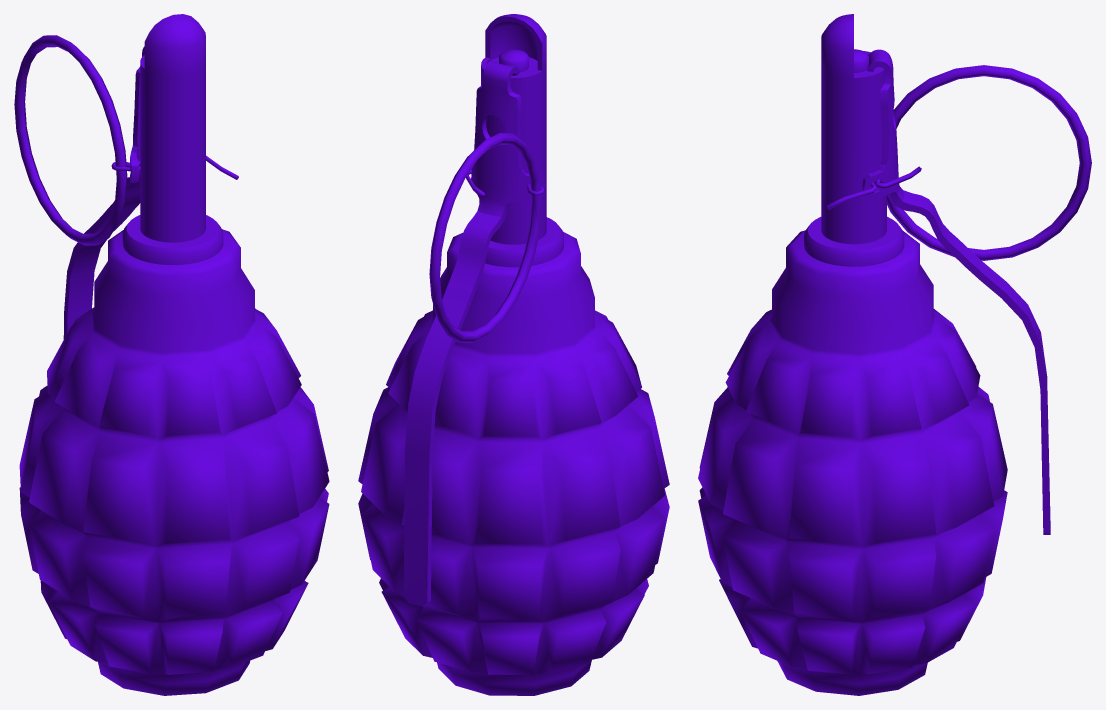
The picture shows the model from 3 angles, left to right: view 1: azimuth 30°, elevation 25°; view 2: azimuth 150°, elevation 25°; view 3: azimuth 270°, elevation 25°; orthographic projection.
Parts seen in each view (by area): view 1: Grande_Low, Fitil_Low, Cheka_Low, Ruka_Low; view 2: Grande_Low, Ruka_Low, Fitil_Low, Cheka_Low; view 3: Grande_Low, Fitil_Low, Ruka_Low, Cheka_Low, Homyd_Low.
Part boxes in pixels (box(x1,y1,x2,y2)): Grande_Low: box(19, 229, 329, 695); Fitil_Low: box(122, 14, 223, 264); Cheka_Low: box(14, 35, 127, 245); Ruka_Low: box(63, 46, 144, 339); Grande_Low: box(358, 231, 669, 695); Ruka_Low: box(403, 61, 544, 606); Fitil_Low: box(481, 14, 563, 267); Cheka_Low: box(429, 132, 542, 342); Grande_Low: box(698, 230, 1007, 695); Fitil_Low: box(804, 14, 904, 266); Ruka_Low: box(862, 49, 1050, 534); Cheka_Low: box(887, 65, 1091, 260); Homyd_Low: box(826, 166, 921, 209).
Size of the model in its own units: 204 by 470 by 259.
